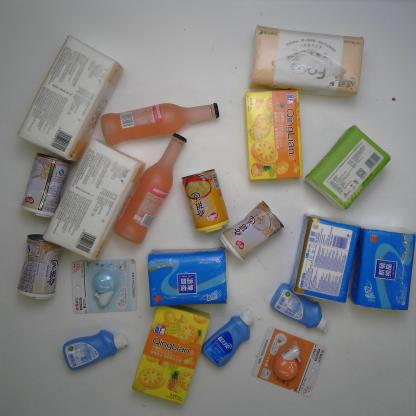Alcohol: (113, 132, 188, 244), (99, 102, 225, 146)
Canned Food: (219, 200, 284, 263), (21, 153, 71, 220), (181, 168, 230, 235), (17, 233, 66, 299)
Dessert: (132, 305, 211, 404), (245, 89, 301, 181)
Personal Hygiene: (202, 310, 254, 367), (271, 283, 328, 330), (62, 330, 128, 370)
Stationery: (251, 325, 328, 397), (70, 260, 138, 314)
Tissue: (17, 35, 126, 164), (42, 136, 146, 262), (250, 25, 365, 99), (304, 124, 391, 210), (290, 213, 360, 304), (348, 228, 416, 309), (149, 247, 227, 306)
